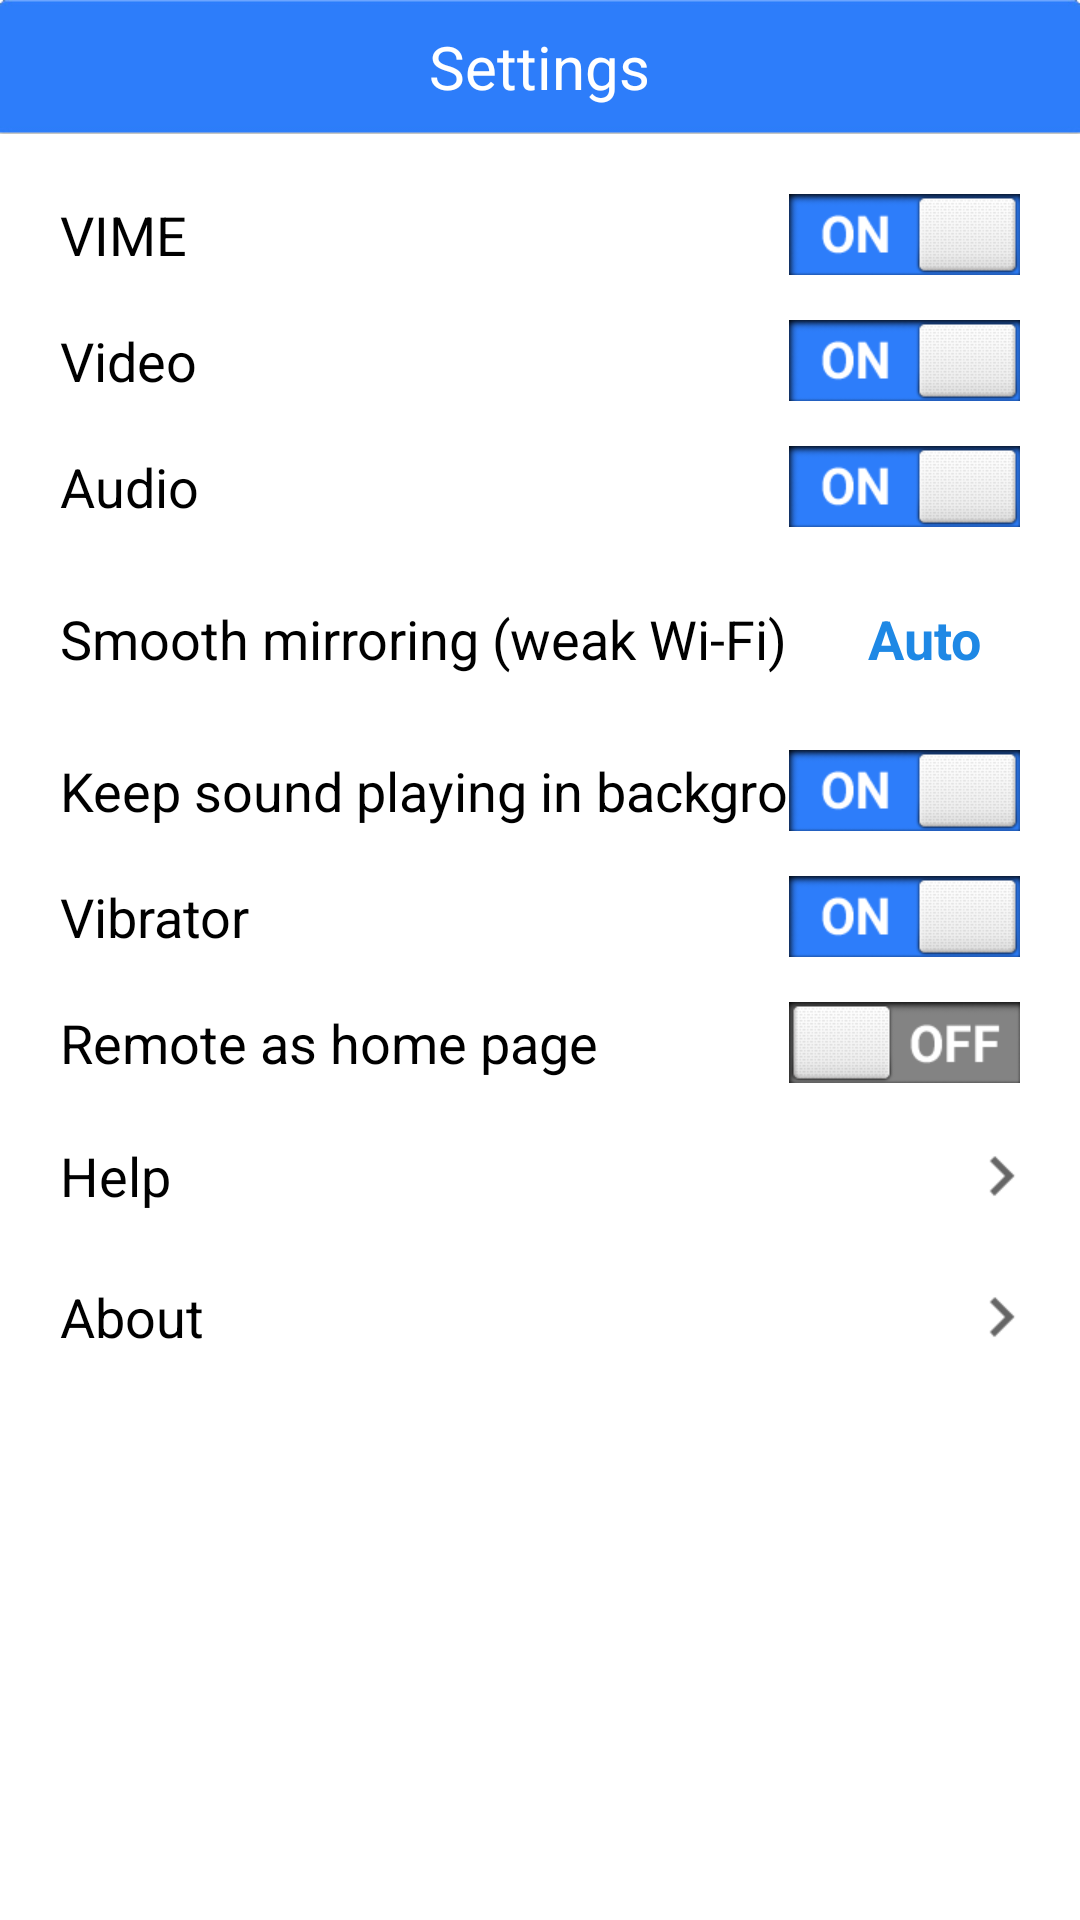

Icons on this 1080 × 1920 Android screen, each with its box as (x1, y1, x2, y2):
set arrow: (990, 1156, 1015, 1196), (990, 1297, 1015, 1337)
